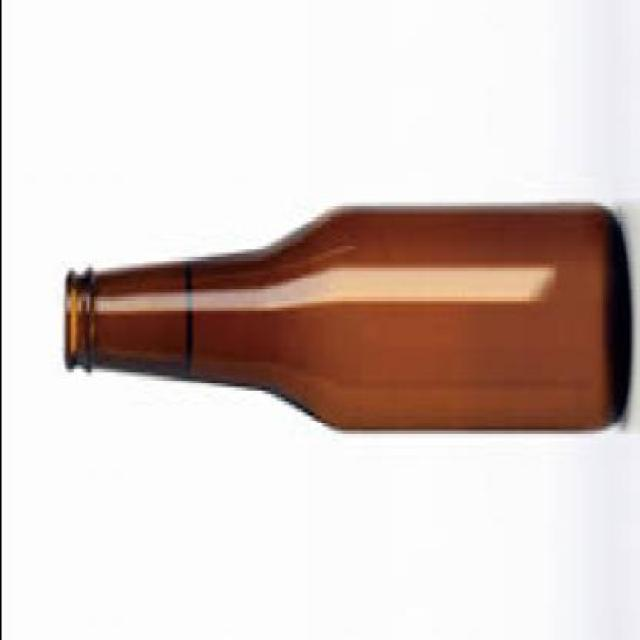glass: (60, 203, 629, 428)
